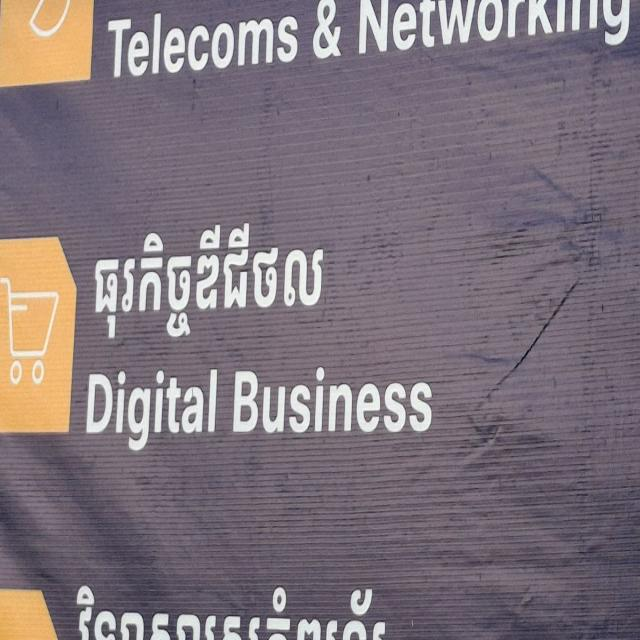Yolov11kh: (79, 208, 356, 357)
